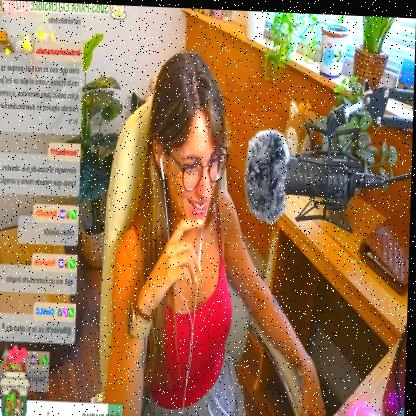streamer: (107, 48, 337, 416)
